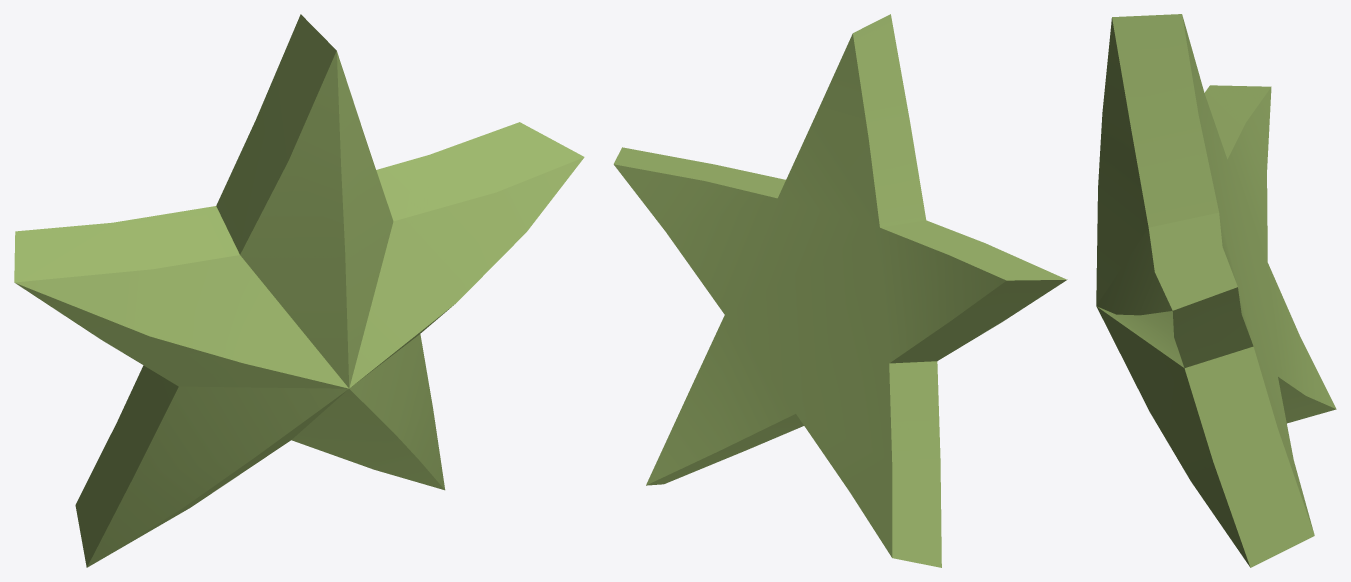
The model's file is BL1_Frame_Star.001 3.glb.
The picture shows the model from 3 angles, left to right: view 1: azimuth 30°, elevation 25°; view 2: azimuth 150°, elevation 25°; view 3: azimuth 270°, elevation 25°; orthographic projection. The views are drawn at different scales.
Visible parts, largest first — view 1: BL1_Frame_Star.001; view 2: BL1_Frame_Star.001; view 3: BL1_Frame_Star.001.
Part boxes in pixels (box(x1,y1,x2,y2)): BL1_Frame_Star.001: box(14, 14, 584, 567); BL1_Frame_Star.001: box(613, 14, 1067, 567); BL1_Frame_Star.001: box(1096, 14, 1336, 567).
Bounding box in the file's own units: 0.4088 × 0.3948 × 0.1792.
